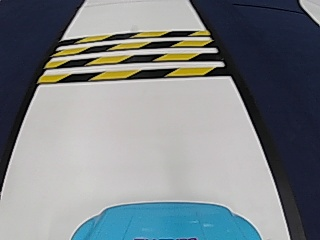bump: (64, 29, 204, 84)
